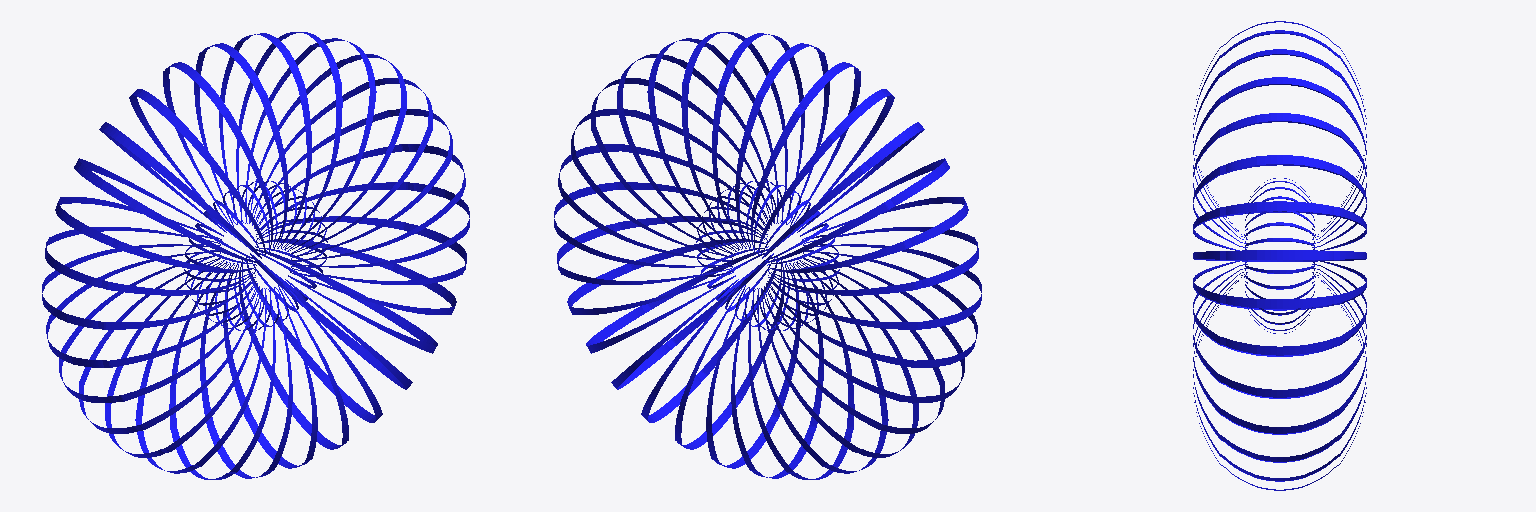
Rendered from vanallen-outer.obj.
3 renders of one model, left to right at view 1: azimuth 30°, elevation 25°; view 2: azimuth 150°, elevation 25°; view 3: azimuth 270°, elevation 25°, orthographic.
Size of the model in its own units: 15 by 14.97 by 5.53.